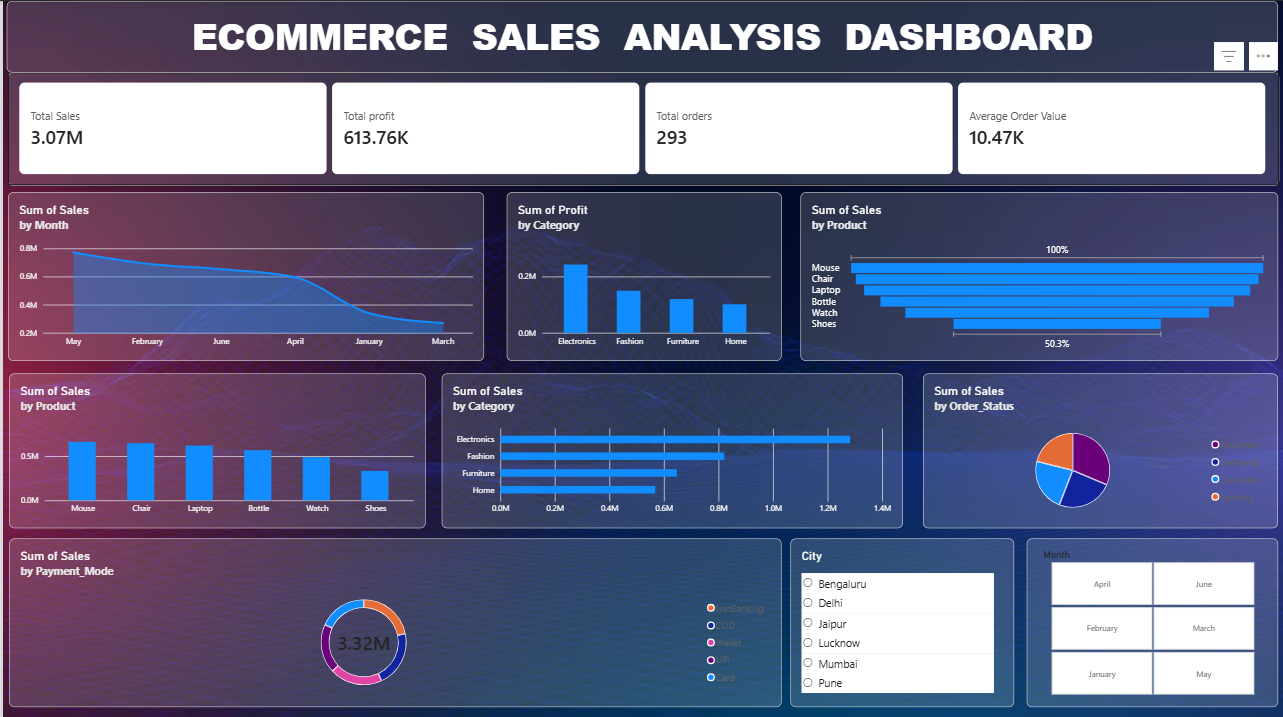

Layout of this report page (visuals, bound fields, positions):
{"tool":"powerbi","page":{"name":"Page 1","canvas":[1920,1080],"ordinal":0},"visuals":[{"type":"cardVisual","fields":{"Data":["Dax Measures.Total Sales","Dax Measures.Total profit","Dax Measures.Total orders","Dax Measures.Average Order Value"]},"box":[7.5,106.8,1905.6,170.5],"z":0},{"type":"textbox","box":[5.6,0,1905.6,106.8],"z":1000},{"type":"lineChart","fields":{"Category":["ecommerce orders.Month"],"Y":["Sum(ecommerce orders.Sales)"]},"box":[7.5,286.7,713.9,253],"z":2000},{"type":"barChart","fields":{"Y":["Sum(ecommerce orders.Sales)"],"Category":["ecommerce orders.Category"]},"box":[657.7,558.4,691.4,232.3],"z":3000},{"type":"columnChart","fields":{"Category":["ecommerce orders.Product"],"Y":["Sum(ecommerce orders.Sales)"]},"box":[9.4,558.4,624,232.3],"z":4000},{"type":"donutChart","fields":{"Category":["ecommerce orders.Payment_Mode"],"Y":["Sum(ecommerce orders.Sales)"]},"box":[9.4,805.7,1158,253],"z":5000},{"type":"pieChart","fields":{"Category":["ecommerce orders.Order_Status"],"Y":["Sum(ecommerce orders.Sales)"]},"box":[1379.1,558.4,532.1,232.3],"z":6000},{"type":"funnel","fields":{"Category":["ecommerce orders.Product"],"Y":["Sum(ecommerce orders.Sales)"]},"box":[1195.4,286.7,715.8,253],"z":7000},{"type":"columnChart","fields":{"Y":["Sum(ecommerce orders.Profit)"],"Category":["ecommerce orders.Category"]},"box":[755.1,286.7,412.2,253],"z":8000},{"type":"slicer","fields":{"Values":["ecommerce orders.Month"]},"box":[1534.6,805.7,376.6,253],"z":9000},{"type":"listSlicer","fields":{"Values":["ecommerce orders.City"]},"box":[1180.4,805.7,335.4,253],"z":10000}]}

Visuals, with their boxes in screenshot pixels (x1, y1, x2, y2), scaled from the page's 1920x1080 canvas onto the 1283x717 screenshot:
cardVisual - Dax Measures.Total Sales x Dax Measures.Total profit: Rect(5, 71, 1278, 184)
textbox: Rect(4, 0, 1277, 71)
lineChart - ecommerce orders.Month x Sum(ecommerce orders.Sales): Rect(5, 190, 482, 358)
barChart - Sum(ecommerce orders.Sales) x ecommerce orders.Category: Rect(439, 371, 902, 525)
columnChart - ecommerce orders.Product x Sum(ecommerce orders.Sales): Rect(6, 371, 423, 525)
donutChart - ecommerce orders.Payment_Mode x Sum(ecommerce orders.Sales): Rect(6, 535, 780, 703)
pieChart - ecommerce orders.Order_Status x Sum(ecommerce orders.Sales): Rect(922, 371, 1277, 525)
funnel - ecommerce orders.Product x Sum(ecommerce orders.Sales): Rect(799, 190, 1277, 358)
columnChart - Sum(ecommerce orders.Profit) x ecommerce orders.Category: Rect(505, 190, 780, 358)
slicer - ecommerce orders.Month: Rect(1025, 535, 1277, 703)
listSlicer - ecommerce orders.City: Rect(789, 535, 1013, 703)
